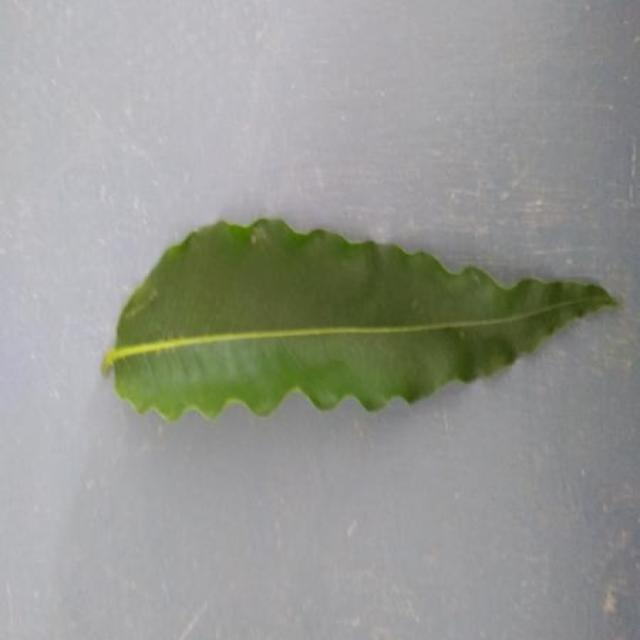ashoka: (103, 219, 617, 419)
